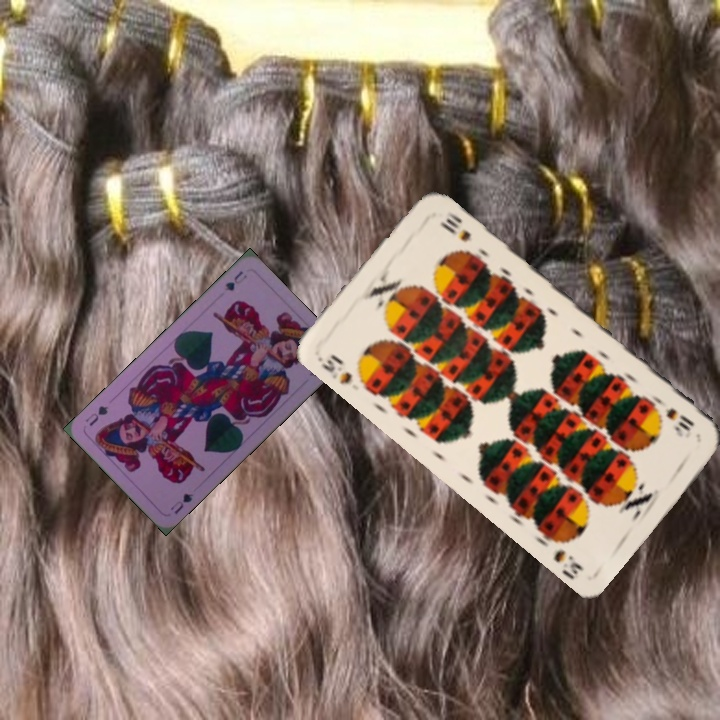GU: (166, 489, 196, 517), (221, 267, 250, 294)
S10: (317, 350, 355, 387), (661, 403, 697, 434)
